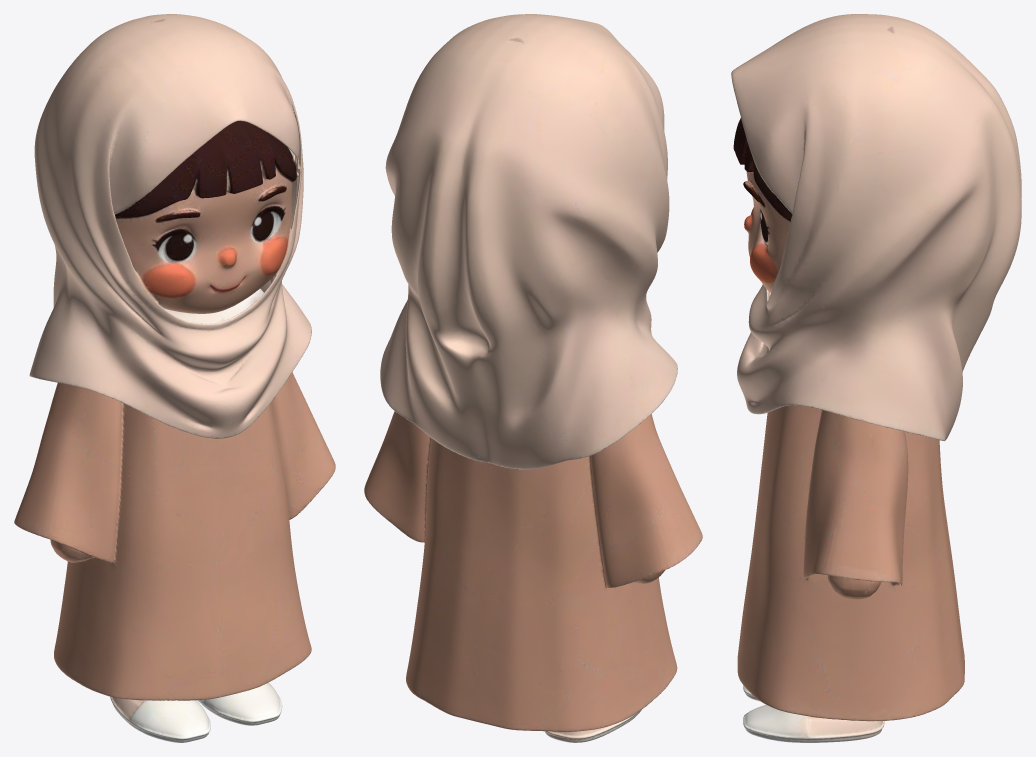
File: aisha-plain.glb
The picture shows the model from 3 angles, left to right: view 1: azimuth 30°, elevation 25°; view 2: azimuth 150°, elevation 25°; view 3: azimuth 270°, elevation 25°; orthographic projection. The views are drawn at different scales.
Bounding box in the file's own units: 0.9034 × 1.9 × 0.7296.
Materials: 1 (1 with a texture image).
